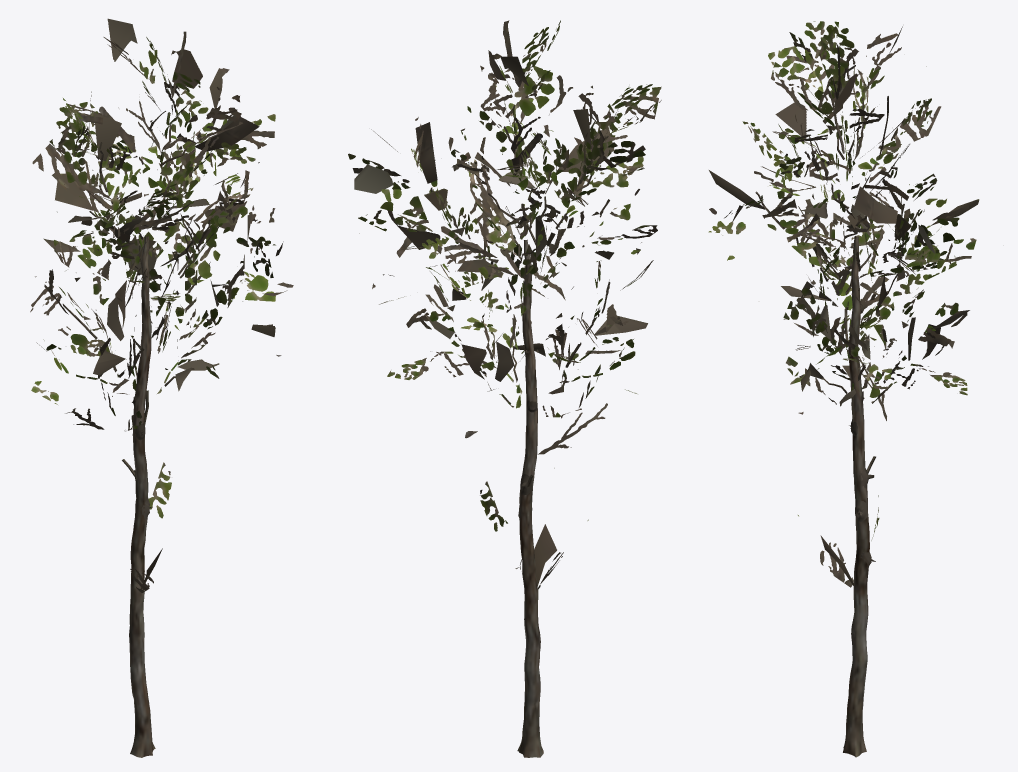
Rendered from SM_BlackAlder_Forest_08_PP_LOD1.gltf.
3 views of the same model, side by side, from view 1: azimuth 30°, elevation 25°; view 2: azimuth 150°, elevation 25°; view 3: azimuth 270°, elevation 25° (orthographic).
Visible parts, largest first — view 1: SM_BlackAlder_Forest_08_PP; view 2: SM_BlackAlder_Forest_08_PP; view 3: SM_BlackAlder_Forest_08_PP.
Boxes of the visible parts, bbox=[...] form: SM_BlackAlder_Forest_08_PP: bbox=[30, 18, 293, 757]; SM_BlackAlder_Forest_08_PP: bbox=[348, 20, 661, 757]; SM_BlackAlder_Forest_08_PP: bbox=[708, 21, 979, 757].
Bounding box in the file's own units: 3.11 × 7.36 × 2.81.
Materials: 3 (3 with a texture image).
